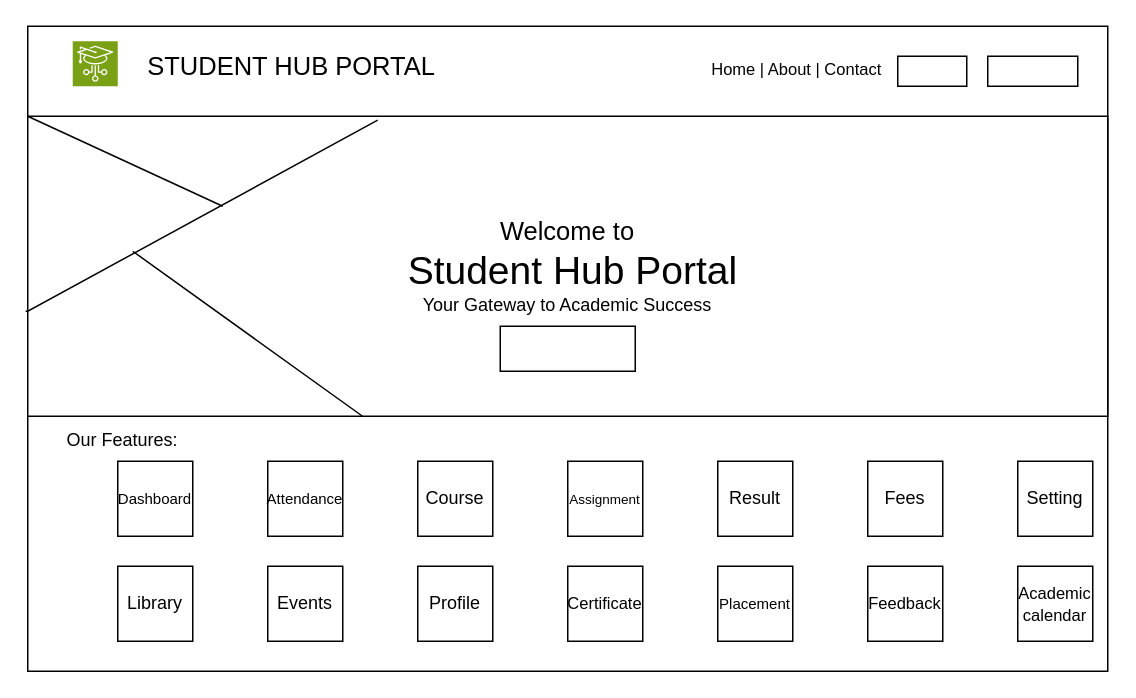
This 1136x698 diagram has some shape labels left out. The centre of each missing label's shape, as x and y in pixels:
"Get Started" belongs at pixel 567 348.
"Log in" belongs at pixel 931 70.
"Sign Up" belongs at pixel 1032 70.
